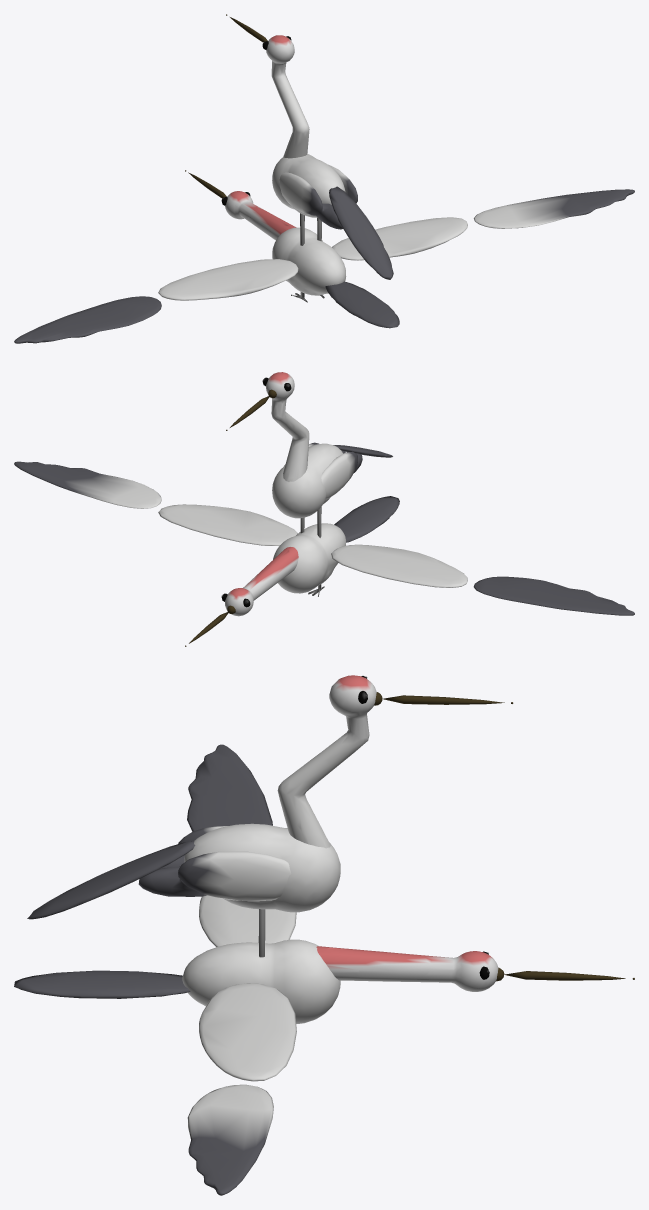
The model's file is crane_parts.glb.
3 views of the same model, one above another, from view 1: azimuth 30°, elevation 25°; view 2: azimuth 150°, elevation 25°; view 3: azimuth 270°, elevation 25° (orthographic). The views are drawn at different scales.
Parts seen in each view (by area): view 1: WING_L, WINGTIP_R__WING_R, WINGTIP_L__WING_L, BODY.001, WING_R, TAIL, HEAD, BODY, TAIL.001, BODY1, HEAD.001; view 2: WING_L, WING_R, WINGTIP_L__WING_L, WINGTIP_R__WING_R, BODY.001, BODY, HEAD, HEAD.001, TAIL.001, BODY1; view 3: BODY.001, WING_R, WINGTIP_R__WING_R, BODY, BODY3, HEAD, HEAD.001, WINGTIP_L__WING_L, TAIL.001, WING_L, TAIL, HEAD2__ (+1 smaller).
Part boxes in pixels (x1,y1,x2,y2): WING_L: (158, 259, 298, 300); WINGTIP_R__WING_R: (473, 189, 634, 228); WINGTIP_L__WING_L: (14, 296, 161, 343); BODY.001: (272, 227, 346, 295); WING_R: (332, 217, 467, 260); TAIL: (329, 186, 393, 279); HEAD: (266, 35, 309, 158); BODY: (272, 153, 345, 217); TAIL.001: (325, 281, 399, 328); BODY1: (279, 172, 342, 229); HEAD.001: (225, 191, 296, 240); WING_L: (331, 544, 467, 587); WING_R: (158, 504, 297, 546); WINGTIP_L__WING_L: (473, 576, 634, 615); WINGTIP_R__WING_R: (14, 461, 161, 508); BODY.001: (273, 523, 345, 593); BODY: (272, 443, 342, 518); HEAD: (266, 372, 309, 481); HEAD.001: (225, 547, 298, 616); TAIL.001: (334, 496, 399, 542); BODY1: (321, 451, 362, 499); BODY.001: (182, 939, 340, 1023); WING_R: (199, 983, 296, 1081); WINGTIP_R__WING_R: (187, 1084, 273, 1195); BODY: (184, 823, 340, 912); BODY3: (138, 851, 291, 901); HEAD: (277, 675, 376, 848); HEAD.001: (316, 946, 498, 991); WINGTIP_L__WING_L: (187, 744, 272, 831); TAIL.001: (14, 970, 190, 998); WING_L: (199, 895, 296, 946); TAIL: (27, 841, 195, 919); HEAD2__: (374, 692, 513, 705).
Size of the model in its own units: 2.24 by 0.823 by 1.31.
